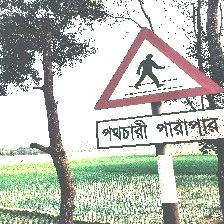Pedestrian-crossing: (94, 26, 224, 152)
